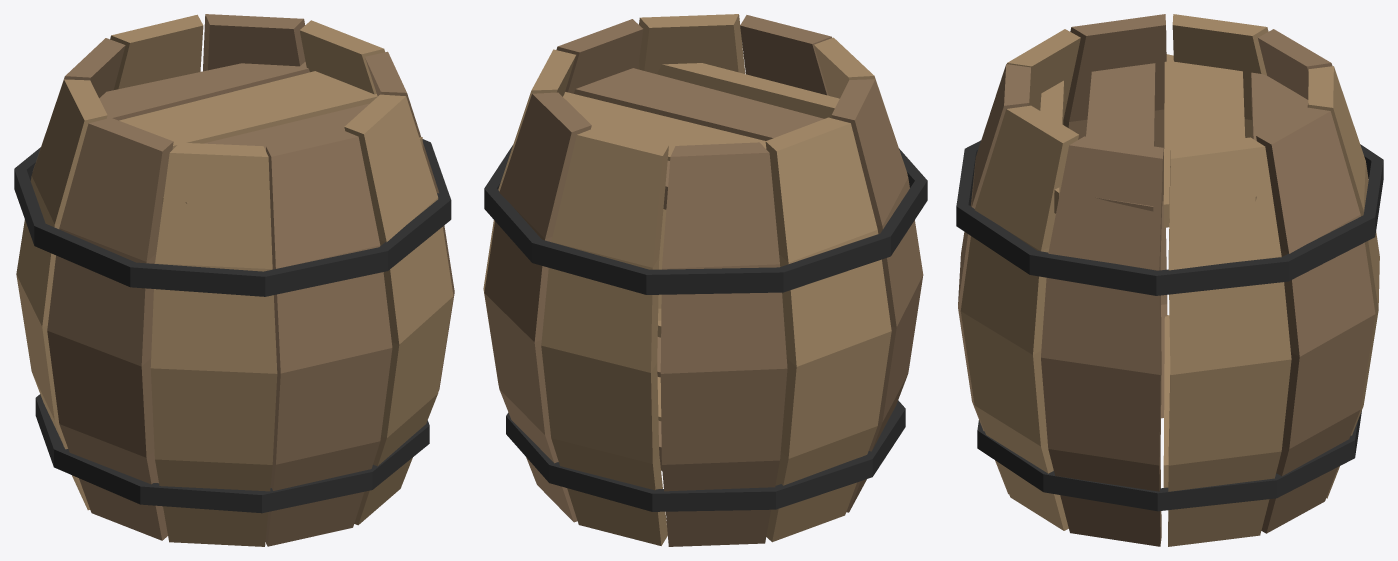
File: BarrelShatter.fbx
3 views of the same model, side by side, from view 1: azimuth 30°, elevation 25°; view 2: azimuth 150°, elevation 25°; view 3: azimuth 270°, elevation 25° (orthographic).
Parts seen in each view (by area): view 1: BarrelShatter.011, BarrelShatter.012, BarrelShatter.010, BarrelShatter.005, BarrelShatter.017, BarrelShatter.009, BarrelShatter.002, BarrelShatter.013, BarrelShatter.016, BarrelShatter.006, BarrelShatter.007, BarrelShatter.004 (+3 smaller); view 2: BarrelShatter.008, BarrelShatter.007, BarrelShatter.009, BarrelShatter.006, BarrelShatter.017, BarrelShatter.010, BarrelShatter.002, BarrelShatter.014, BarrelShatter.005, BarrelShatter.012, BarrelShatter.013, BarrelShatter.015 (+4 smaller); view 3: BarrelShatter.004, BarrelShatter.003, BarrelShatter.006, BarrelShatter.005, BarrelShatter.017, BarrelShatter.002, BarrelShatter.010, BarrelShatter.013, BarrelShatter.014, BarrelShatter.009, BarrelShatter.007, BarrelShatter.012 (+5 smaller).
Boxes of the visible parts, x1,y1,x2,y2 form: BarrelShatter.011: [150, 142, 277, 546]; BarrelShatter.012: [265, 129, 392, 546]; BarrelShatter.010: [47, 117, 173, 540]; BarrelShatter.005: [344, 94, 453, 525]; BarrelShatter.017: [14, 139, 451, 296]; BarrelShatter.009: [16, 79, 107, 510]; BarrelShatter.002: [35, 394, 429, 513]; BarrelShatter.013: [119, 71, 377, 149]; BarrelShatter.016: [99, 62, 309, 120]; BarrelShatter.006: [203, 14, 305, 71]; BarrelShatter.007: [110, 14, 203, 89]; BarrelShatter.004: [299, 20, 384, 94]; BarrelShatter.008: [660, 142, 787, 546]; BarrelShatter.007: [541, 127, 668, 545]; BarrelShatter.009: [765, 117, 891, 542]; BarrelShatter.006: [484, 92, 591, 522]; BarrelShatter.017: [484, 145, 927, 294]; BarrelShatter.010: [832, 79, 923, 512]; BarrelShatter.002: [506, 400, 905, 511]; BarrelShatter.014: [574, 68, 823, 140]; BarrelShatter.005: [639, 14, 745, 320]; BarrelShatter.012: [740, 15, 831, 95]; BarrelShatter.013: [563, 92, 766, 160]; BarrelShatter.015: [638, 62, 839, 118]; BarrelShatter.004: [1168, 137, 1291, 546]; BarrelShatter.003: [1041, 136, 1163, 546]; BarrelShatter.006: [1256, 107, 1375, 533]; BarrelShatter.005: [960, 105, 1078, 530]; BarrelShatter.017: [956, 140, 1383, 295]; BarrelShatter.002: [977, 411, 1361, 511]; BarrelShatter.010: [1063, 14, 1167, 418]; BarrelShatter.013: [1163, 54, 1245, 227]; BarrelShatter.014: [1086, 63, 1155, 211]; BarrelShatter.009: [1172, 14, 1268, 138]; BarrelShatter.007: [1308, 66, 1379, 498]; BarrelShatter.012: [958, 64, 1030, 494].
Size of the model in its own units: 142 by 139 by 137.
